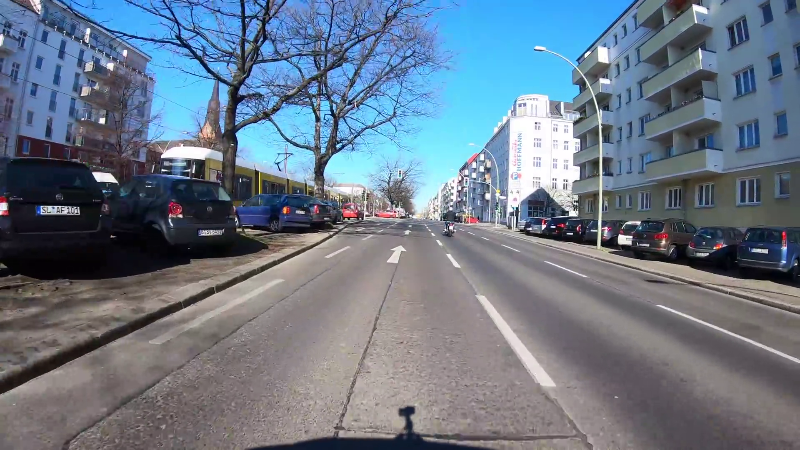Plate: (34, 202, 84, 217), (196, 227, 226, 238), (749, 245, 770, 257), (694, 250, 711, 257), (636, 241, 651, 247), (294, 209, 305, 215)
